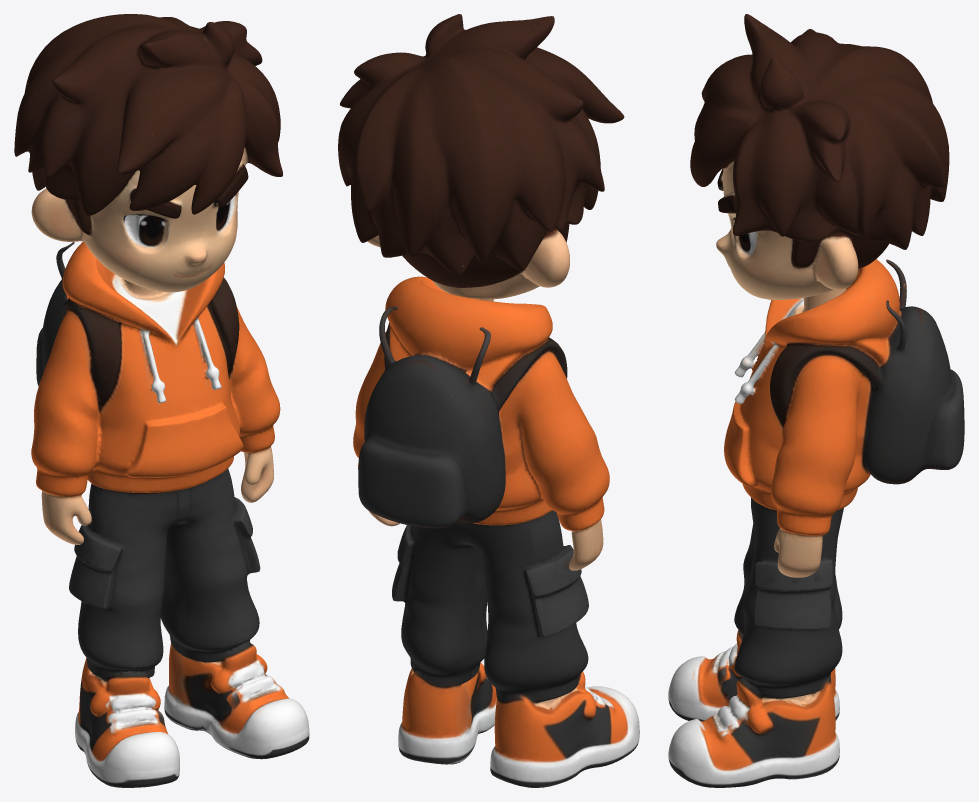
Rendered from Aof_3D.glb.
3 renders of one model, left to right at view 1: azimuth 30°, elevation 25°; view 2: azimuth 150°, elevation 25°; view 3: azimuth 270°, elevation 25°, orthographic. The views are drawn at different scales.
Bounding box in the file's own units: 0.666 × 1.9 × 0.7188.
Materials: 1 (1 with a texture image).
